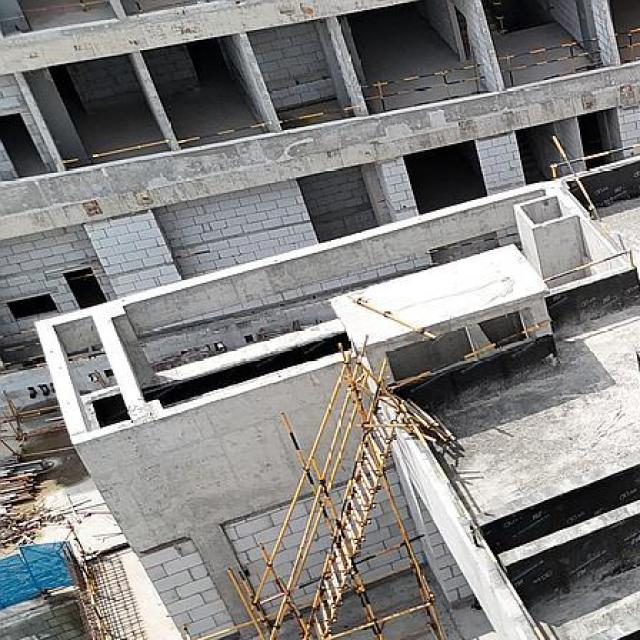edge_guardrail: (409, 415, 549, 640), (391, 318, 554, 391), (358, 64, 486, 112), (497, 37, 603, 87), (551, 135, 602, 222), (550, 142, 640, 178), (543, 248, 634, 283), (61, 138, 170, 163), (177, 120, 266, 144), (426, 232, 518, 255), (0, 327, 44, 367), (280, 105, 356, 124), (24, 0, 104, 16), (614, 28, 640, 63)
